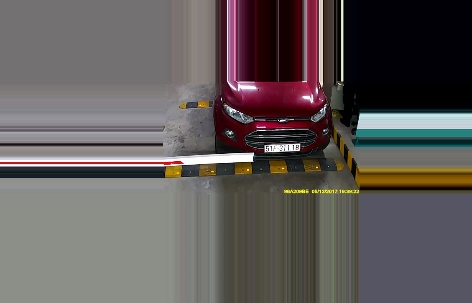plate: (264, 142, 303, 154)
